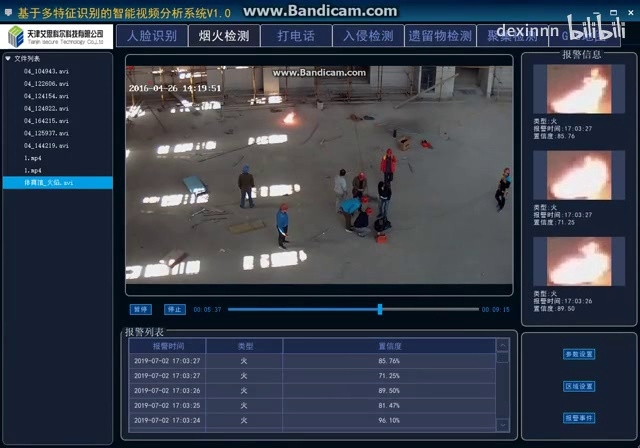fire: (280, 109, 297, 128)
